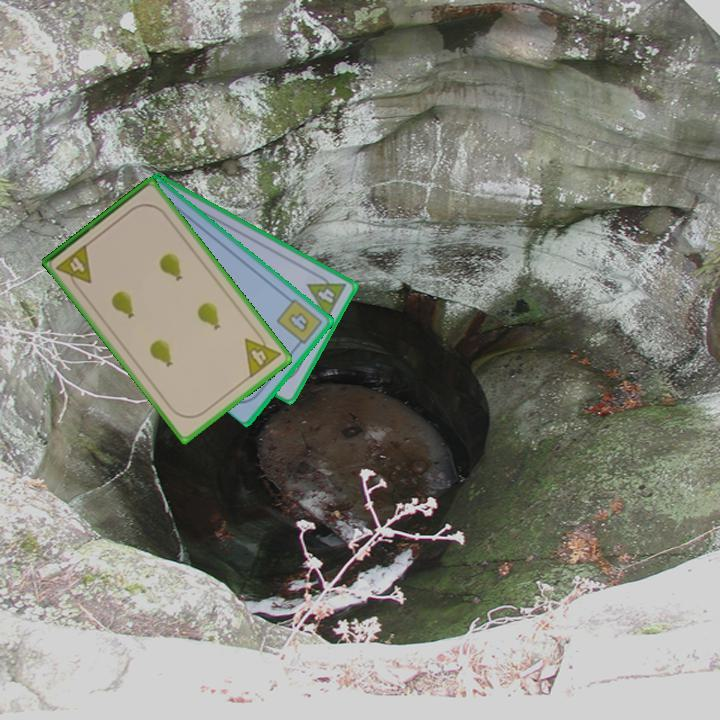4b: (273, 295, 325, 351)
4p: (304, 268, 349, 321), (241, 327, 284, 381), (53, 240, 95, 293)
